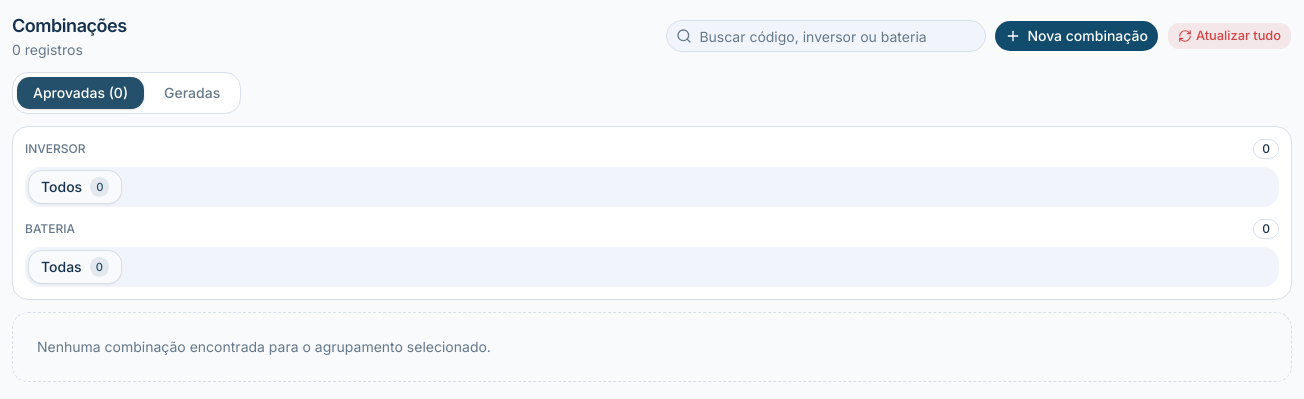
SolutionsEditor: pending-generated localStorage bootstrap › treats corrupted localStorage content as an empty pending list
The image size is (1304, 399).
Click the button "Geradas": (192, 93) [148,77,236,109]
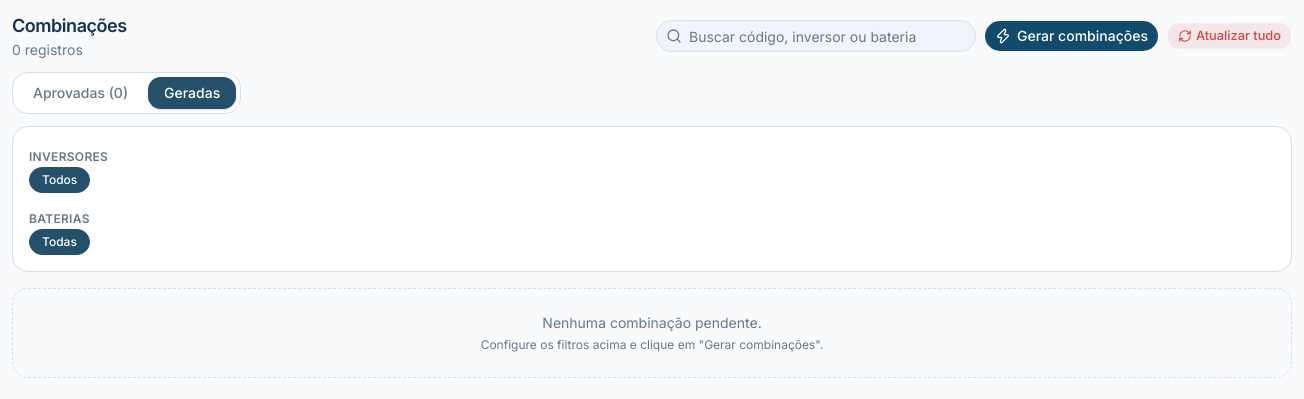
Check: the text "Nenhuma combinação pendente." is shown, box [542,314,762,331]
